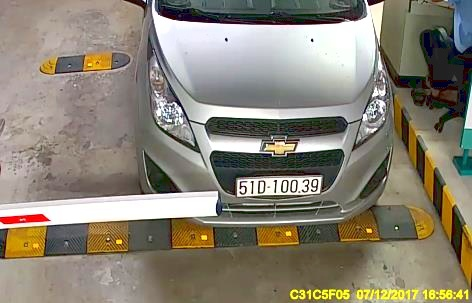plate: (233, 169, 328, 201)
